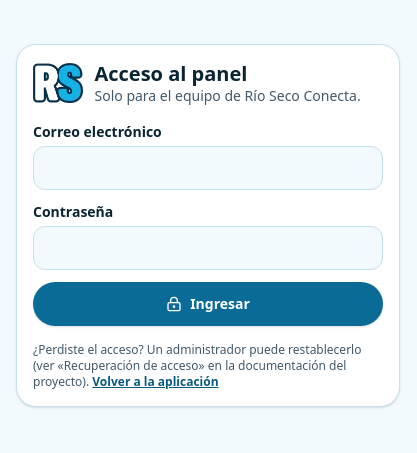
Test: acceso al panel › sin sesión muestra el acceso; con credenciales incorrectas, un mensaje claro y sin revelar qué falló
The image size is (417, 453).
Expected: the heading "Acceso al panel" is shown, [94,60,247,86]
Type "ana@example.test" into the field labelled "Correo electrónico" at (208, 168), box [33,146,383,190]
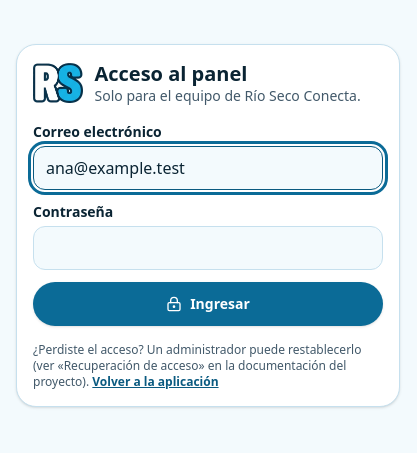
Type "incorrecta-incorrecta" into the password field labelled "Contraseña" at (208, 248), box [33,226,383,270]
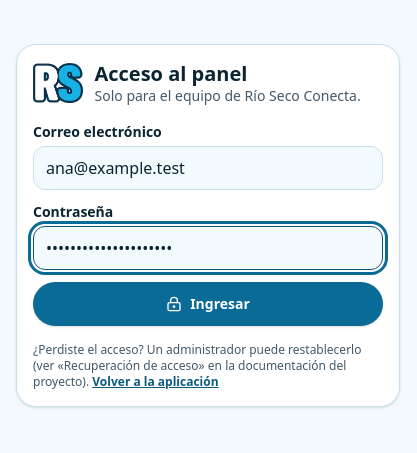
Click the button "Ingresar" at (208, 304), box [33,282,383,326]
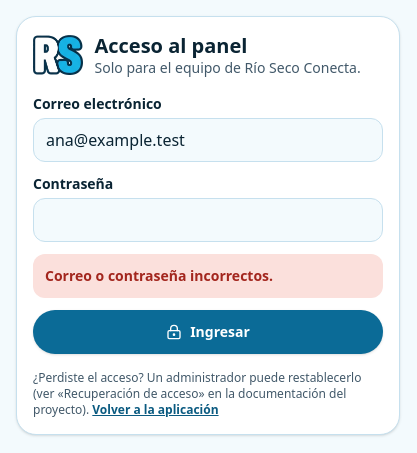
Expected: the message reads "Correo o contraseña incorrectos.", [45,266,273,284]
Expected: the password field labelled "Contraseña" is empty, [33,198,383,242]
